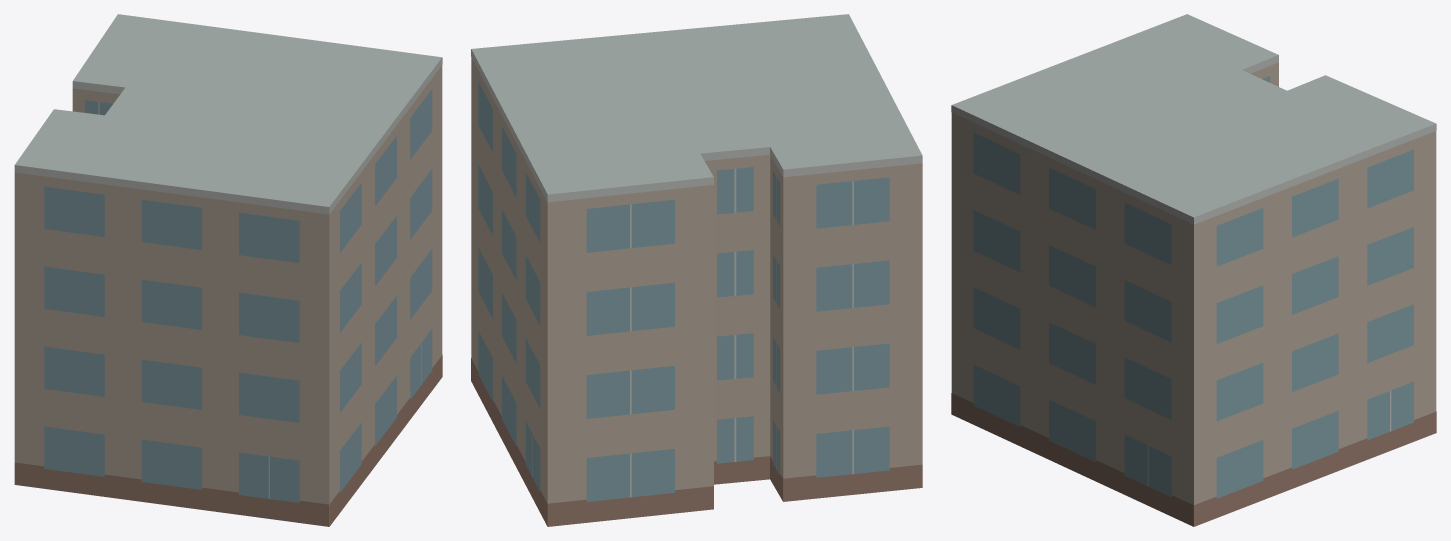
File: survey-upis-32841213.glb
The picture shows the model from 3 angles, left to right: view 1: azimuth 30°, elevation 25°; view 2: azimuth 150°, elevation 25°; view 3: azimuth 270°, elevation 25°; orthographic projection. The views are drawn at different scales.
Parts seen in each view (by area): view 1: survey-upis-32841213.tmp; view 2: survey-upis-32841213.tmp; view 3: survey-upis-32841213.tmp.
Part boxes in pixels (x1=…): survey-upis-32841213.tmp: x1=14, y1=14, x2=442, y2=526; survey-upis-32841213.tmp: x1=471, y1=14, x2=922, y2=526; survey-upis-32841213.tmp: x1=951, y1=14, x2=1436, y2=526.
Bounding box in the file's own units: 14.82 × 10.5 × 14.92.
